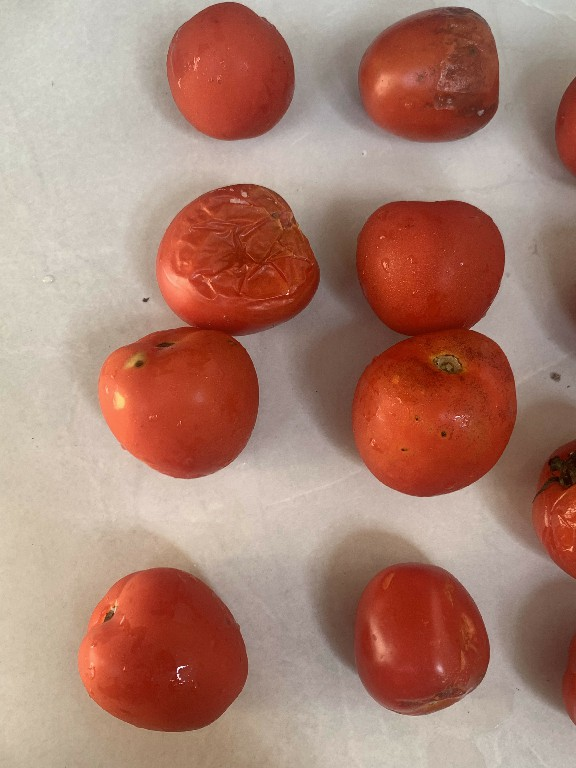NG: (351, 321, 524, 511), (91, 326, 279, 488), (147, 173, 319, 337), (346, 2, 516, 148)
OK: (332, 549, 504, 724), (75, 560, 253, 728), (352, 182, 522, 329), (155, 0, 308, 148)
